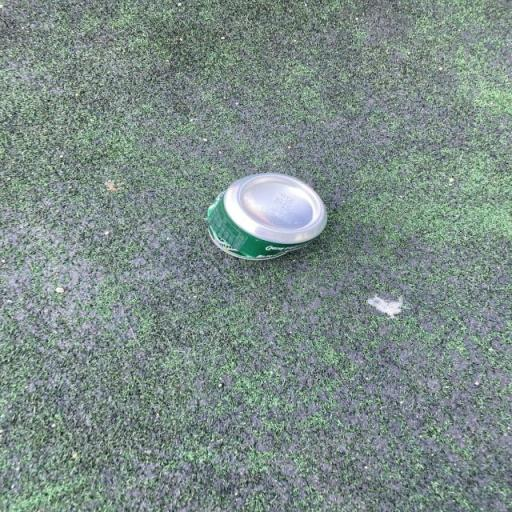metal: (171, 156, 362, 321)
